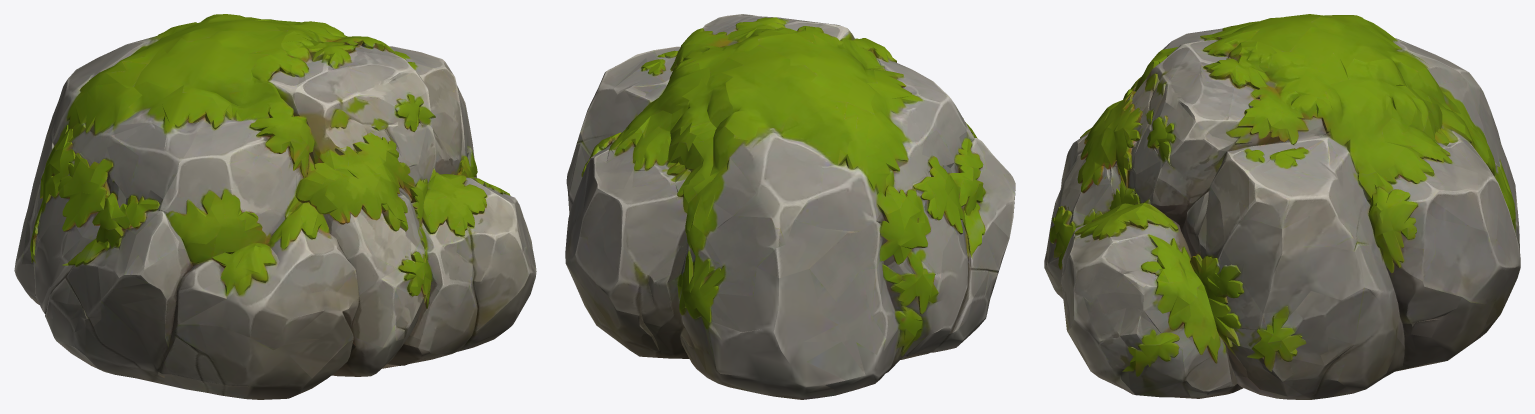
File: prop_rock.glb
3 renders of one model, left to right at view 1: azimuth 30°, elevation 25°; view 2: azimuth 150°, elevation 25°; view 3: azimuth 270°, elevation 25°, orthographic. The views are drawn at different scales.
Parts seen in each view (by area): view 1: output_unwrapped; view 2: output_unwrapped; view 3: output_unwrapped.
Part boxes in pixels (<box>): output_unwrapped: <box>14,14,536,399</box>; output_unwrapped: <box>565,14,1015,399</box>; output_unwrapped: <box>1044,14,1520,399</box>.
Size of the model in its own units: 1.9 by 1.21 by 1.88.
1 material, 1 textured.
